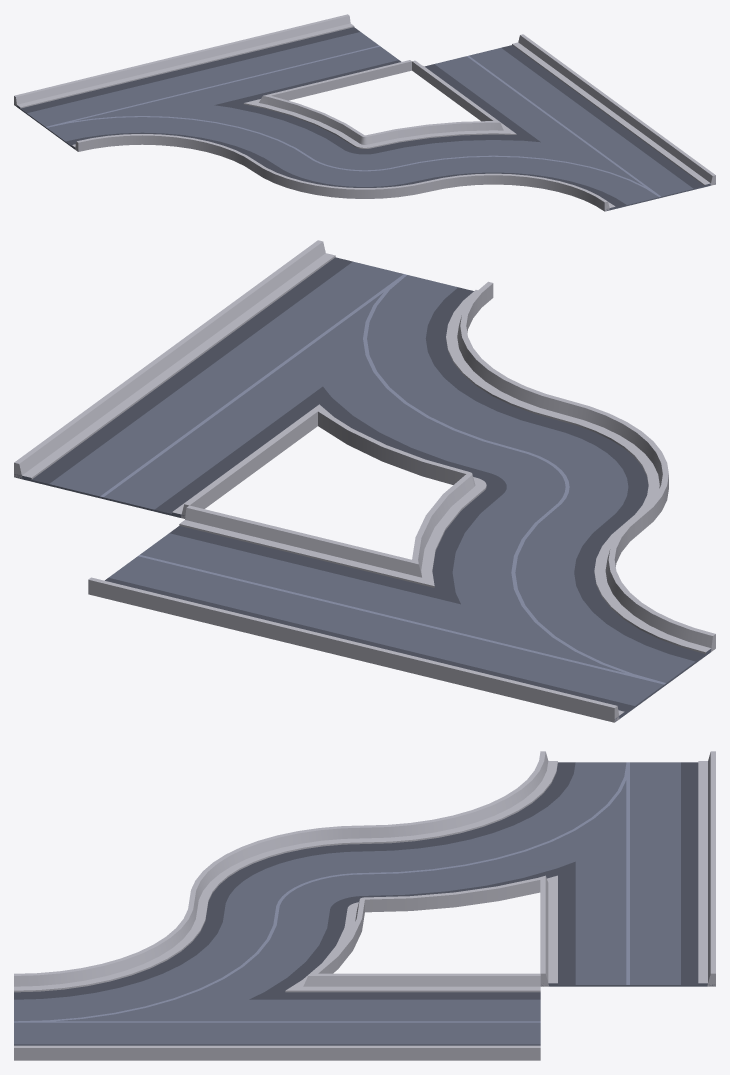
File: road_junction.obj
3 views of the same model, one above another, from view 1: azimuth 30°, elevation 25°; view 2: azimuth 150°, elevation 25°; view 3: azimuth 270°, elevation 25° (orthographic). The views are drawn at different scales.
Parts seen in each view (by area): view 1: road_curvestraight.001, road_curvestraight.002, road_straight.002, road_straight.001, road_curvestraightBarrier.002, road_curvestraightBarrier.001, road_bend, road_straightBarrier.001, road_bendBarrier, road_straightBarrier.002; view 2: road_curvestraight.001, road_curvestraight.002, road_straight.002, road_straight.001, road_bend, road_curvestraightBarrier.002, road_curvestraightBarrier.001, road_straightBarrier.001, road_straightBarrier.002, road_bendBarrier; view 3: road_curvestraight.002, road_curvestraight.001, road_straight.001, road_straight.002, road_bend, road_curvestraightBarrier.001, road_curvestraightBarrier.002, road_straightBarrier.002, road_bendBarrier, road_straightBarrier.001.
Boxes of the visible parts, x1,y1,x2,y2 form: road_curvestraight.001: (368,89,715,211); road_curvestraight.002: (14,50,359,170); road_straight.002: (412,42,581,116); road_straight.001: (239,23,411,97); road_curvestraightBarrier.002: (14,41,364,171); road_curvestraightBarrier.001: (365,81,715,211); road_bend: (253,143,429,198); road_straightBarrier.001: (237,14,411,96); road_bendBarrier: (253,135,429,198); road_straightBarrier.002: (412,34,586,117); road_curvestraight.001: (123,253,562,484); road_curvestraight.002: (263,487,711,722); road_straight.002: (14,401,290,517); road_straight.001: (88,520,359,636); road_bend: (474,414,668,530); road_curvestraightBarrier.002: (263,474,715,722); road_curvestraightBarrier.001: (115,240,566,482); road_straightBarrier.001: (88,505,364,636); road_straightBarrier.002: (14,388,290,518); road_bendBarrier: (466,400,668,529); road_curvestraight.002: (365,761,707,912); road_curvestraight.001: (14,909,364,1060); road_straight.001: (541,909,714,986); road_straight.002: (365,986,540,1060); road_bend: (197,838,364,910); road_curvestraightBarrier.001: (14,899,364,1060); road_curvestraightBarrier.002: (365,751,715,912); road_straightBarrier.002: (365,973,540,1060); road_bendBarrier: (189,825,364,908); road_straightBarrier.001: (540,899,715,986).
Size of the model in its own units: 4 by 0.08 by 4.
